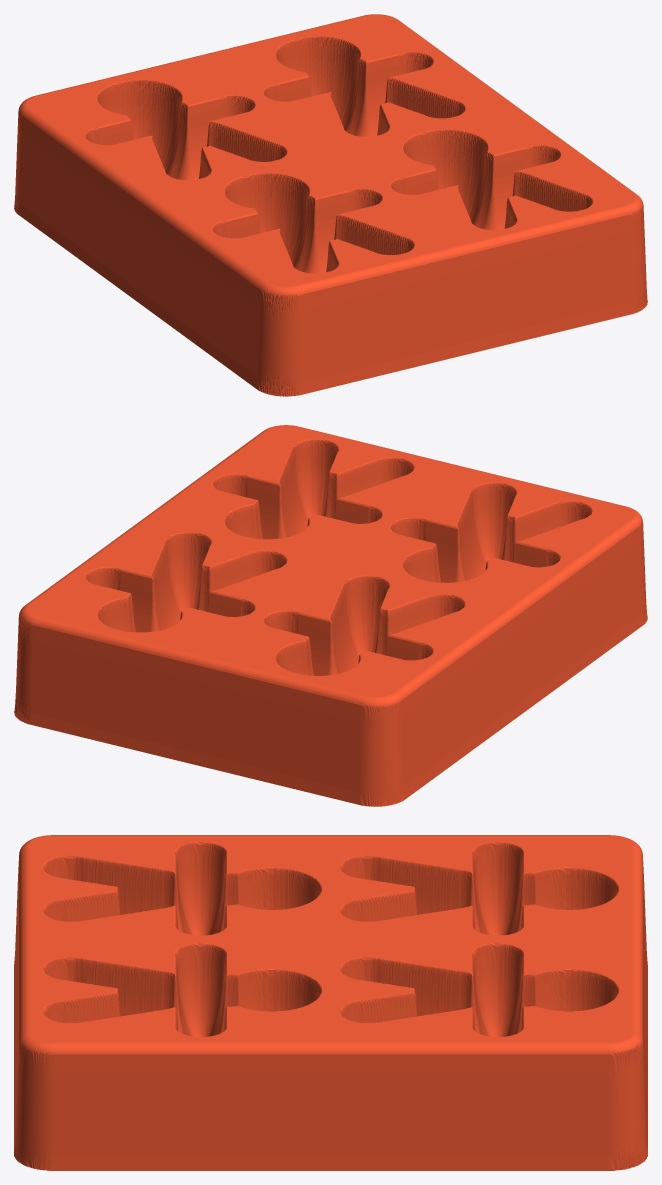
File: mold.glb
3 renders of one model, top to bottom at view 1: azimuth 30°, elevation 25°; view 2: azimuth 150°, elevation 25°; view 3: azimuth 270°, elevation 25°, orthographic. The views are drawn at different scales.
Parts seen in each view (by area): view 1: geometry_0; view 2: geometry_0; view 3: geometry_0.
Part boxes in pixels (x1=…): geometry_0: x1=14, y1=14, x2=647, y2=396; geometry_0: x1=14, y1=425, x2=647, y2=806; geometry_0: x1=14, y1=835, x2=647, y2=1170.
Bounding box in the file's own units: 0.1203 × 0.031 × 0.1466.
